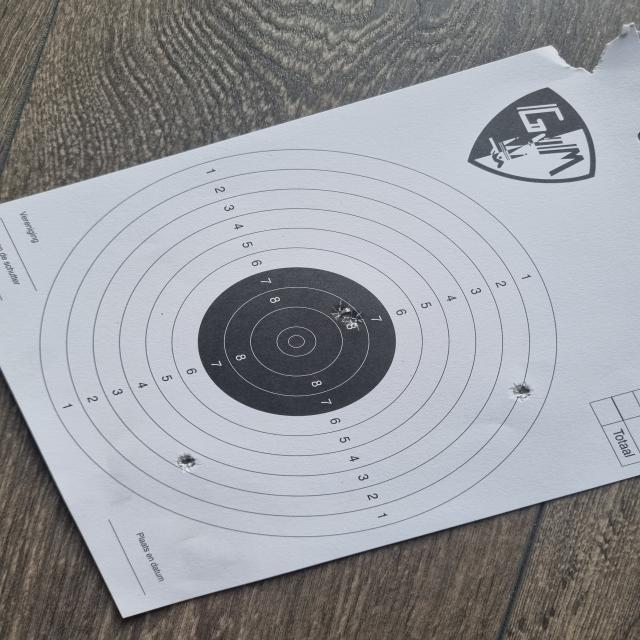2: (512, 383, 532, 399)
3: (176, 454, 201, 472)
8: (344, 312, 366, 330), (331, 301, 351, 320)
Target: (42, 148, 558, 536)
black_contour: (197, 267, 396, 416)
